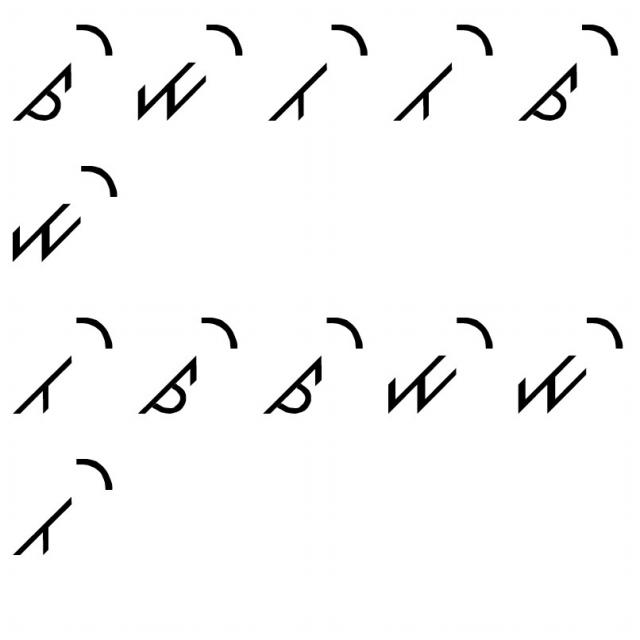bay: (10, 303, 117, 429), (266, 16, 371, 131), (391, 20, 498, 132), (9, 449, 114, 563)
cay: (136, 307, 240, 425), (10, 16, 119, 128), (261, 314, 368, 428), (518, 13, 622, 130)
may: (378, 302, 500, 418), (513, 302, 630, 420), (8, 159, 122, 273), (132, 20, 249, 131)
